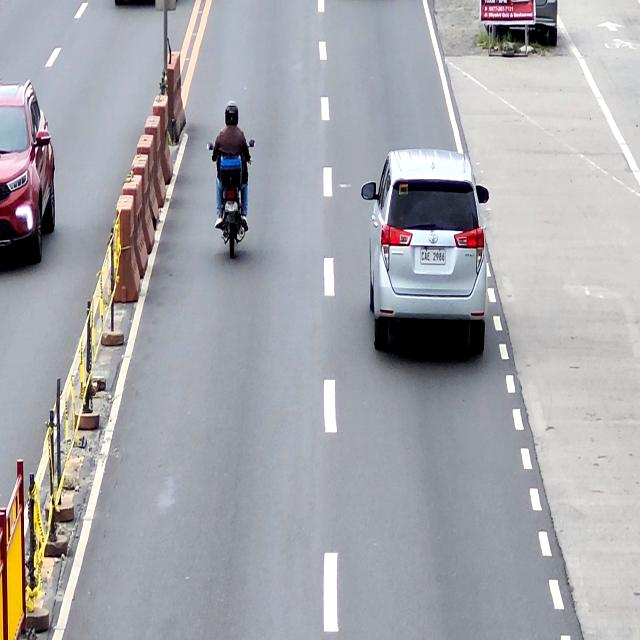Car: (361, 146, 491, 357)
License-Plate: (419, 249, 446, 267)
Motorcycle: (205, 141, 256, 260)
